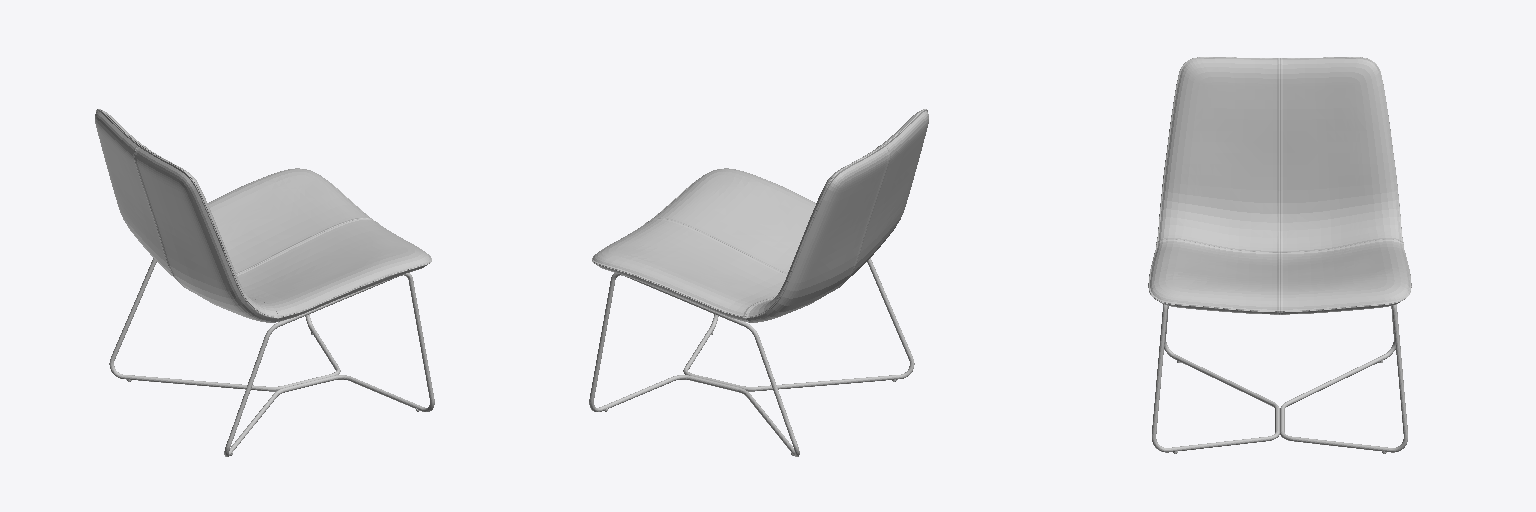
The model's file is Armchair.obj.
3 renders of one model, left to right at view 1: azimuth 30°, elevation 25°; view 2: azimuth 150°, elevation 25°; view 3: azimuth 270°, elevation 25°, orthographic.
Visible parts, largest first — view 1: ArmchairSlopeReplica001; view 2: ArmchairSlopeReplica001; view 3: ArmchairSlopeReplica001.
Part boxes in pixels (left/top/right/bottom): ArmchairSlopeReplica001: left=95, top=109, right=434, bottom=456; ArmchairSlopeReplica001: left=589, top=109, right=928, bottom=456; ArmchairSlopeReplica001: left=1148, top=57, right=1411, bottom=453.
Bounding box in the file's own units: 0.7613 × 0.8587 × 0.7145.